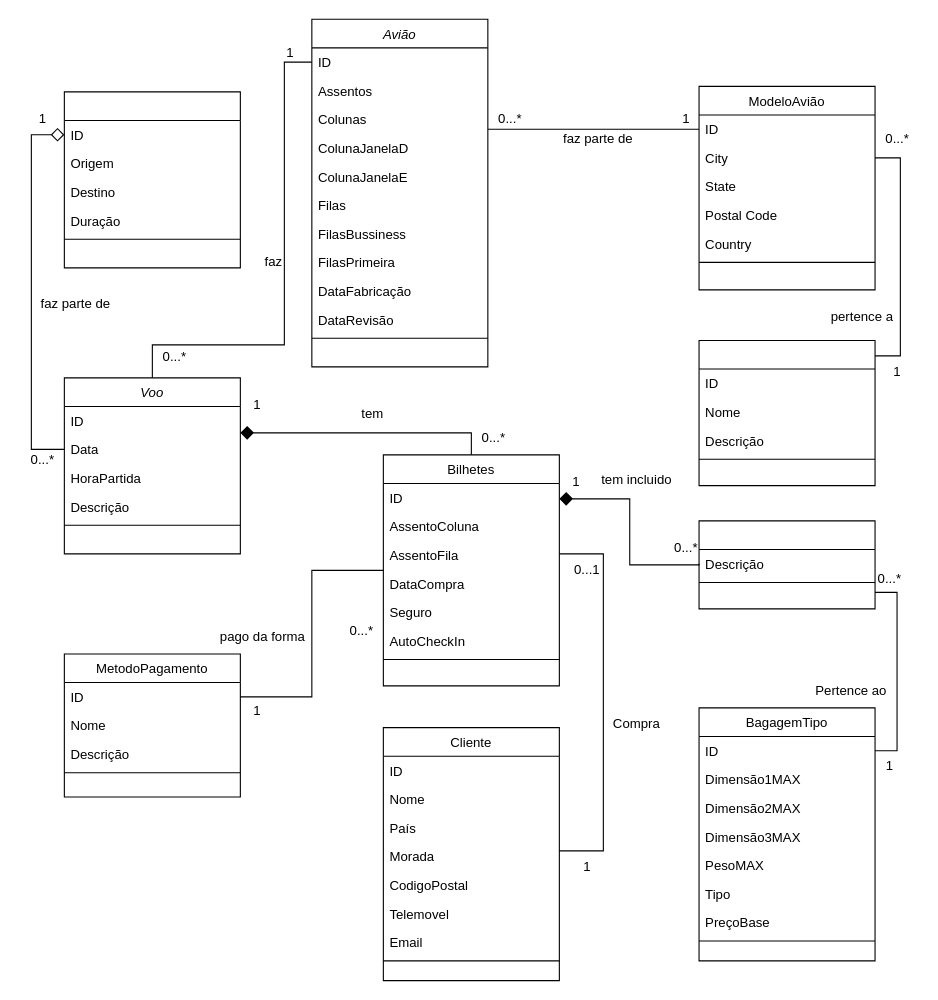
Image size: 938x1000. Some labels were removed from this diagram. The shapes that lost their labels are listed below. From the top down, each one's box as (x1, y1, x2, y2) in pixels, then its label:
(63, 91, 240, 268): Voo Tipo
(698, 339, 875, 486): Companhia
(698, 520, 875, 609): Bagagem
